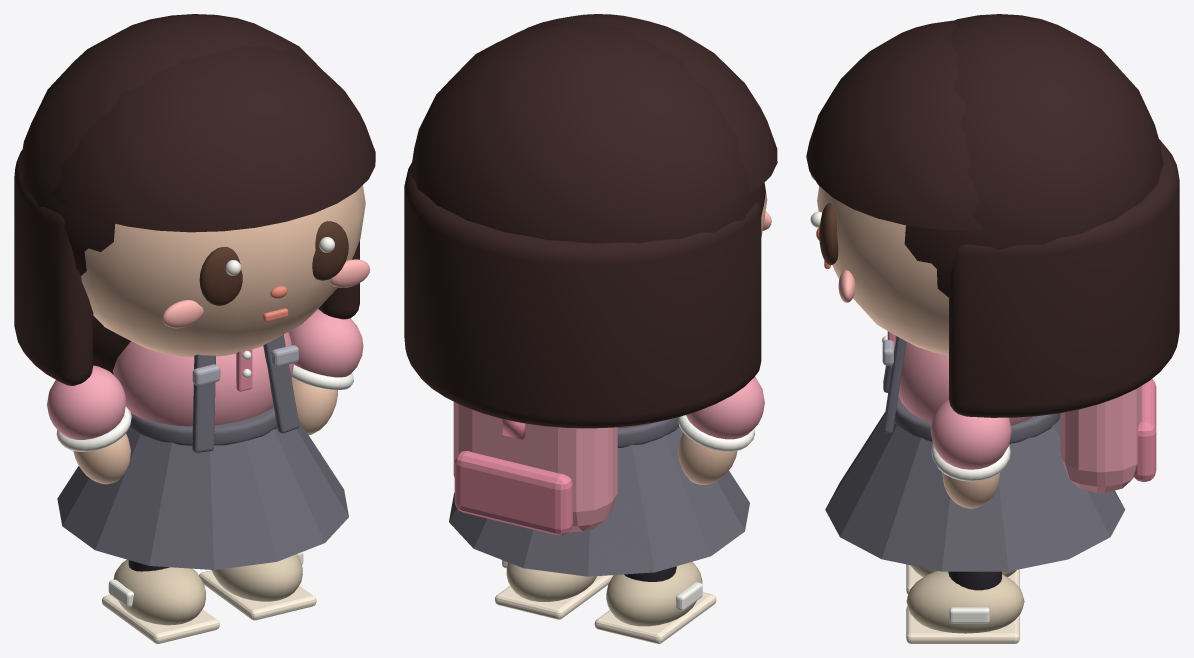
Rendered from char_akane.glb.
3 views of the same model, side by side, from view 1: azimuth 30°, elevation 25°; view 2: azimuth 150°, elevation 25°; view 3: azimuth 270°, elevation 25° (orthographic). The views are drawn at different scales.
Visible parts, largest first — view 1: akane_hair_bangs, akane_skirt, akane_head, akane_hair_cap, akane_hair_long, akane_body, akane_sleeve_L, akane_leg_L, akane_sleeve_R, akane_leg_R, akane_skirt_band, akane_sole_R (+13 smaller); view 2: akane_hair_long, akane_hair_cap, akane_skirt, akane_backpack, akane_hair_bangs, akane_backpack_pocket, akane_leg_L, akane_sleeve_L, akane_leg_R, akane_arm_L, akane_sole_L, akane_sole_R (+2 smaller); view 3: akane_hair_long, akane_hair_cap, akane_skirt, akane_hair_bangs, akane_head, akane_backpack, akane_leg_R, akane_sleeve_R, akane_body, akane_sole_R, akane_backpack_pocket, akane_skirt_band (+6 smaller).
Part boxes in pixels (x1,y1,x2,y2): akane_hair_bangs: [52, 46, 375, 232]; akane_skirt: [57, 420, 348, 569]; akane_head: [81, 185, 365, 356]; akane_hair_cap: [20, 14, 319, 275]; akane_hair_long: [14, 150, 359, 385]; akane_body: [113, 332, 293, 426]; akane_sleeve_L: [47, 365, 126, 439]; akane_leg_L: [113, 559, 205, 625]; akane_sleeve_R: [289, 309, 363, 377]; akane_leg_R: [211, 554, 302, 601]; akane_skirt_band: [129, 407, 277, 445]; akane_sole_R: [199, 570, 316, 620]; akane_hair_long: [404, 163, 761, 428]; akane_hair_cap: [410, 22, 765, 243]; akane_skirt: [449, 426, 749, 576]; akane_backpack: [453, 402, 617, 532]; akane_hair_bangs: [525, 14, 777, 193]; akane_backpack_pocket: [454, 451, 572, 535]; akane_leg_L: [606, 561, 702, 626]; akane_sleeve_L: [686, 377, 764, 439]; akane_leg_R: [506, 562, 597, 601]; akane_arm_L: [678, 432, 737, 484]; akane_sole_L: [594, 592, 716, 643]; akane_sole_R: [495, 575, 613, 619]; akane_hair_long: [949, 139, 1179, 417]; akane_hair_cap: [904, 14, 1163, 297]; akane_skirt: [825, 412, 1125, 571]; akane_hair_bangs: [806, 20, 983, 230]; akane_head: [817, 186, 948, 355]; akane_backpack: [1060, 386, 1141, 492]; akane_leg_R: [906, 571, 1024, 633]; akane_sleeve_R: [930, 399, 1011, 469]; akane_body: [891, 336, 1033, 425]; akane_sole_R: [906, 606, 1019, 643]; akane_backpack_pocket: [1134, 379, 1156, 481]; akane_skirt_band: [894, 396, 1060, 443].
Size of the model in its own units: 0.4436 by 0.7823 by 0.4603.
Materials: 1 (1 with a texture image).
